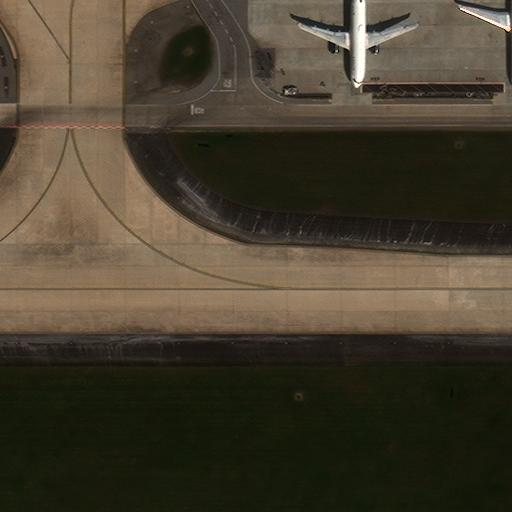Medium Civil Transport: (299, 0, 416, 88), (459, 0, 512, 85)
